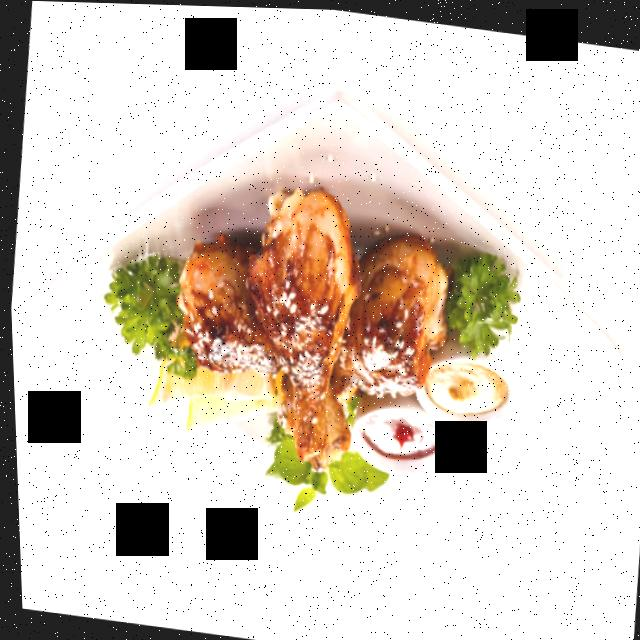Frango: (148, 166, 465, 491)
